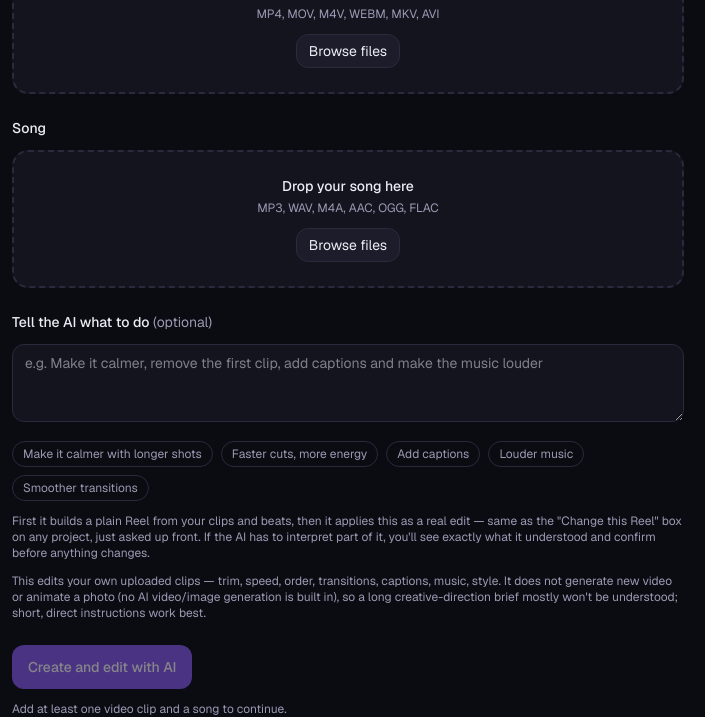
Test: AI Edit (standalone entry point: video + audio + a prompt) › adds an idea to the prompt box without wiping what is already typed
The width and height of the screenshot is (705, 717).
(page scrolled)
Type "make it 20 seconds" into the text box named "What should the AI do?".
click(348, 383); type("make it 20 seconds")  # box [12,344,684,422]
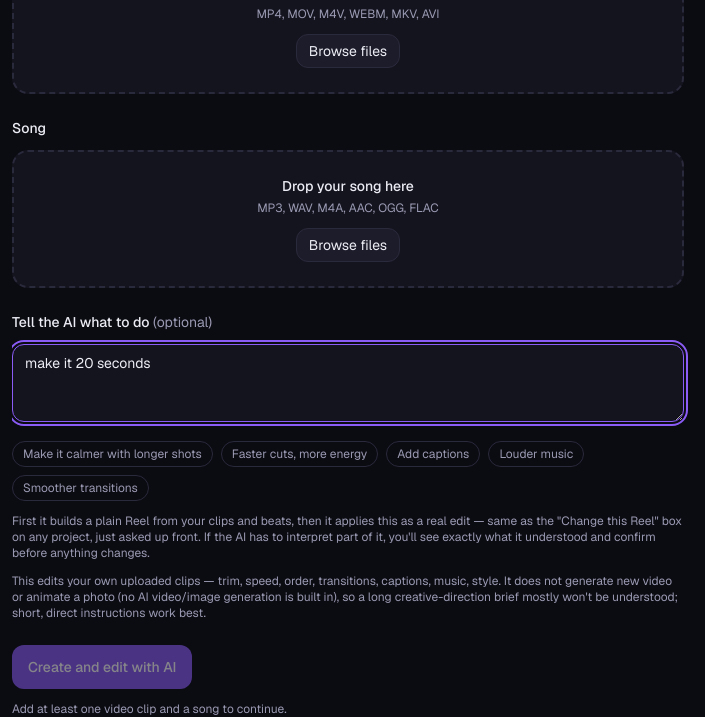
Click the button "Louder music".
click(536, 454)  # box [488,441,584,467]
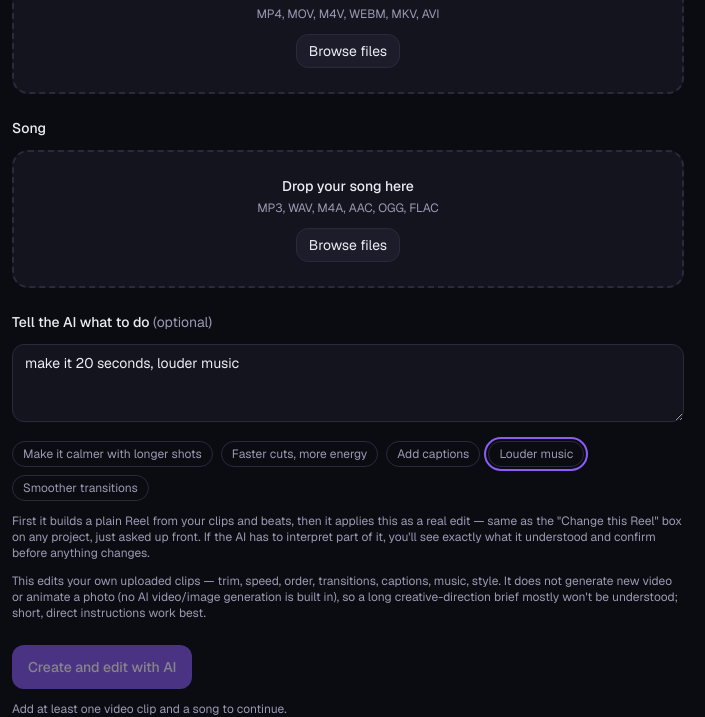
expect the text box named "What should the AI do?" holds "make it 20 seconds, louder music": met, box [12,344,684,422]
